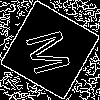M: (25, 25, 81, 78)
